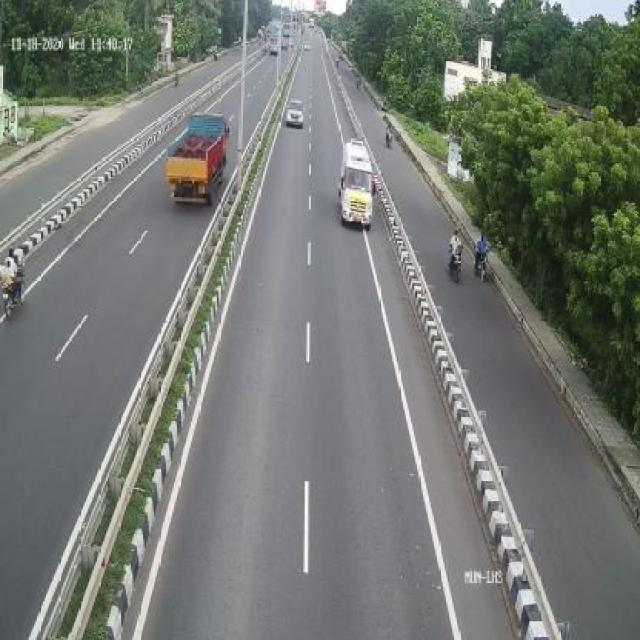car: (288, 91, 308, 132)
